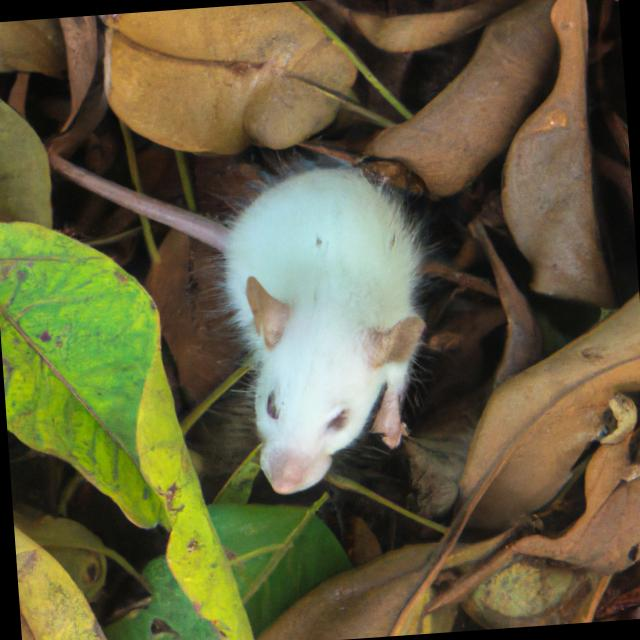rodent: (180, 149, 460, 526)
